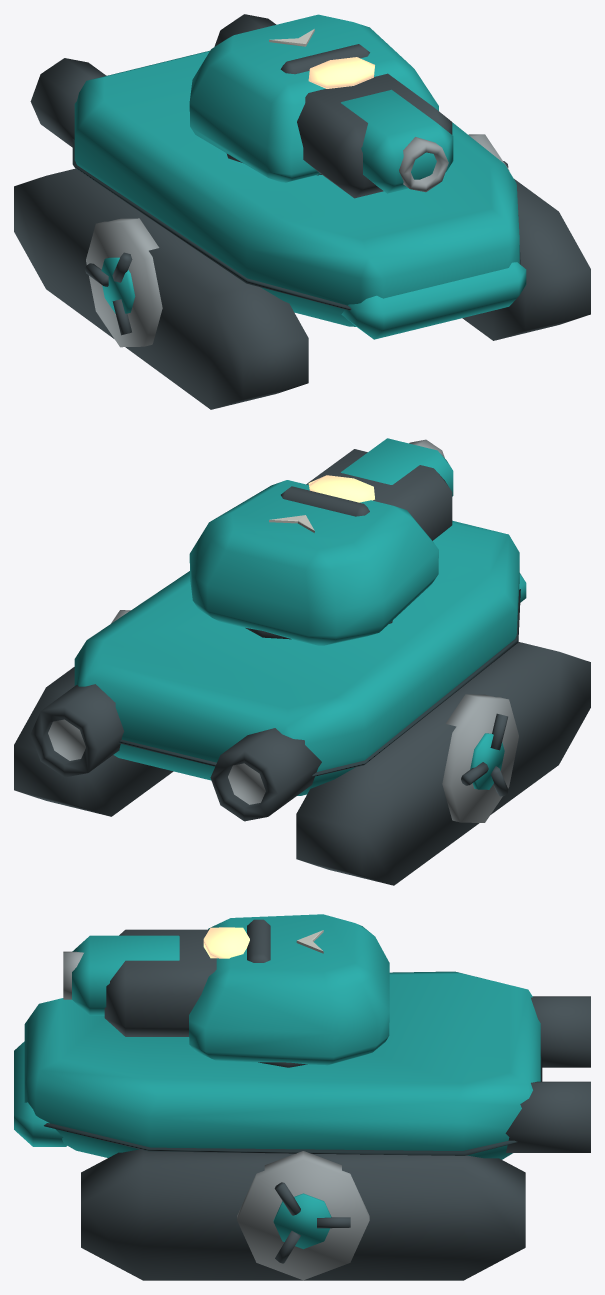
Rendered from TOY_ZIPPER.far.glb.
The picture shows the model from 3 angles, top to bottom: view 1: azimuth 30°, elevation 25°; view 2: azimuth 150°, elevation 25°; view 3: azimuth 270°, elevation 25°; orthographic projection. The views are drawn at different scales.
Parts seen in each view (by area): view 1: Body, TurretYaw, WheelLeft, BarrelRecoil, ChargeEye; view 2: Body, TurretYaw, WheelLeft, BarrelRecoil, ChargeEye; view 3: Body, TurretYaw, WheelRight, BarrelRecoil, ChargeEye.
Boxes of the visible parts, x1,y1,x2,y2 form: Body: (14,14,590,409); TurretYaw: (189,14,452,198); WheelLeft: (85,218,162,347); BarrelRecoil: (341,89,453,193); ChargeEye: (308,57,374,88); Body: (14,520,590,885); TurretYaw: (189,449,452,645); WheelLeft: (442,694,518,822); BarrelRecoil: (341,438,453,496); ChargeEye: (308,475,374,502); Body: (14,971,590,1280); TurretYaw: (104,914,389,1067); WheelRight: (237,1151,369,1280); BarrelRecoil: (63,935,179,1015); ChargeEye: (203,927,249,958).
Size of the model in its own units: 0.731 by 0.4865 by 0.973.
